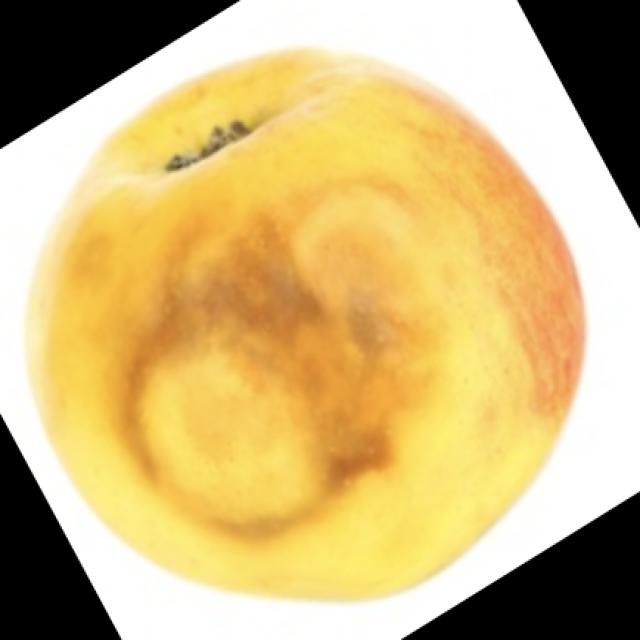Rotten: (51, 50, 562, 587)
